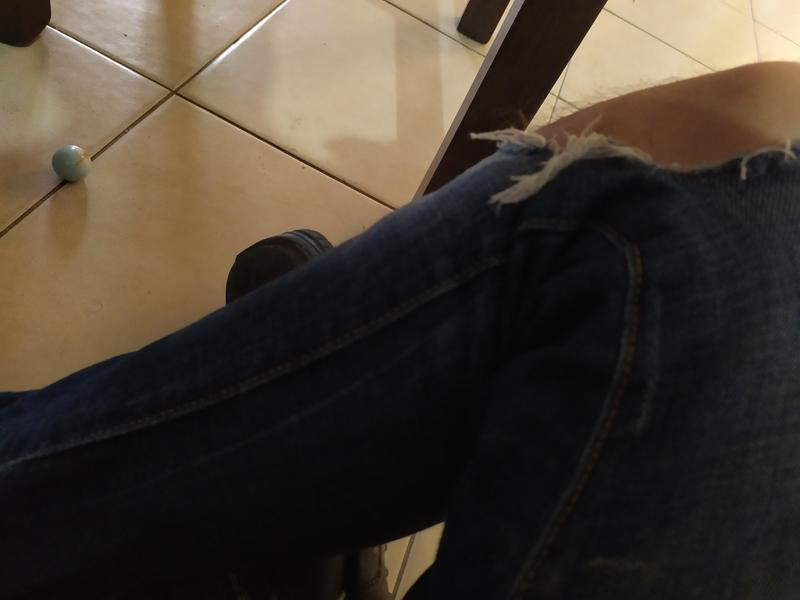Warning: (49, 142, 95, 184)
